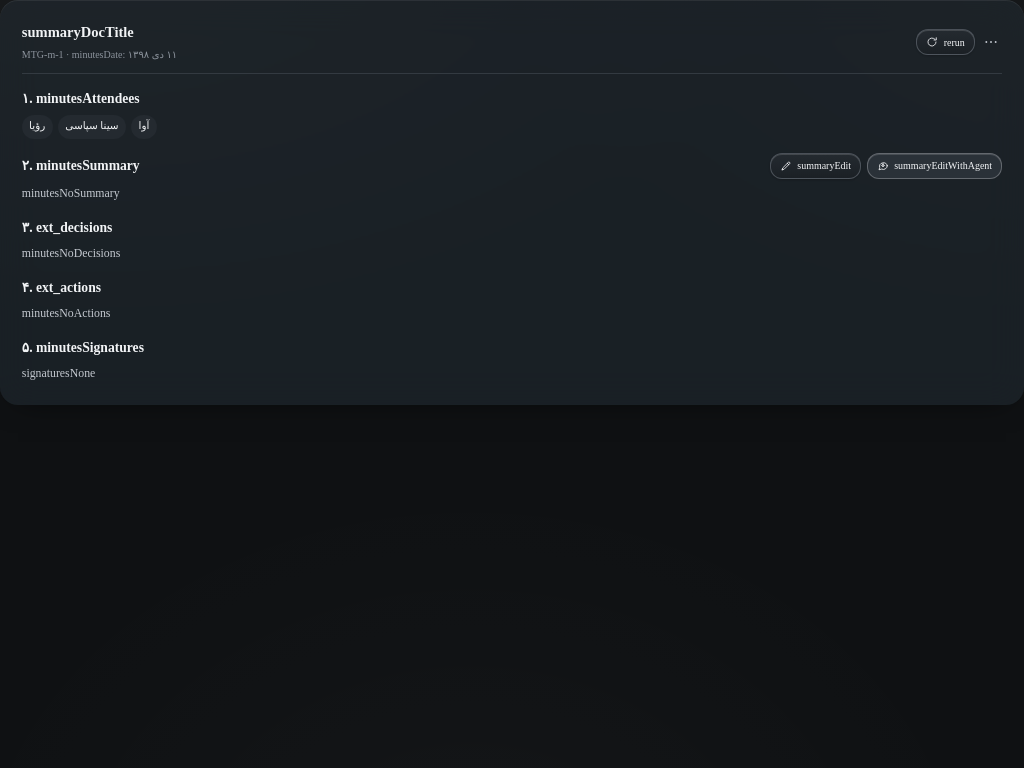
the letterhead, and the assistant's draft (2026-09-17) › puts the assistant's draft in the EDITOR, never straight into the file
The width and height of the screenshot is (1024, 768).
Expected: the text "رؤیا" is shown, [22, 115, 52, 139]
Click the button named "summaryExport" at (991, 42), box [980, 31, 1002, 53]
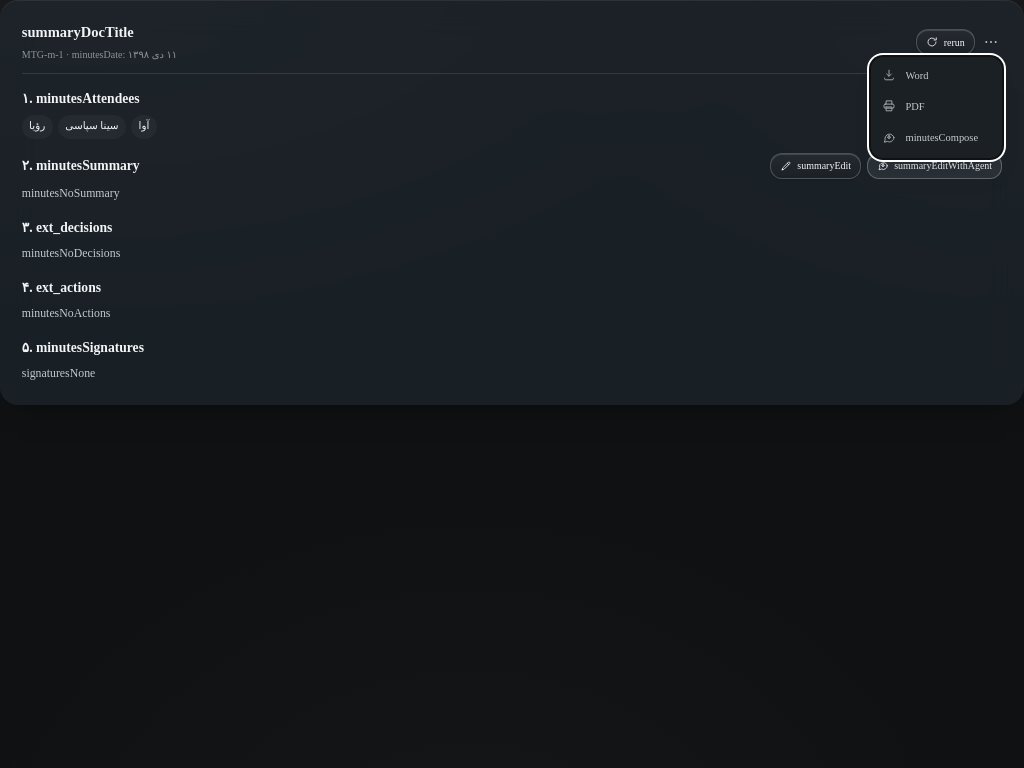
Click the menu item "minutesCompose" at (930, 138), box [882, 131, 978, 145]
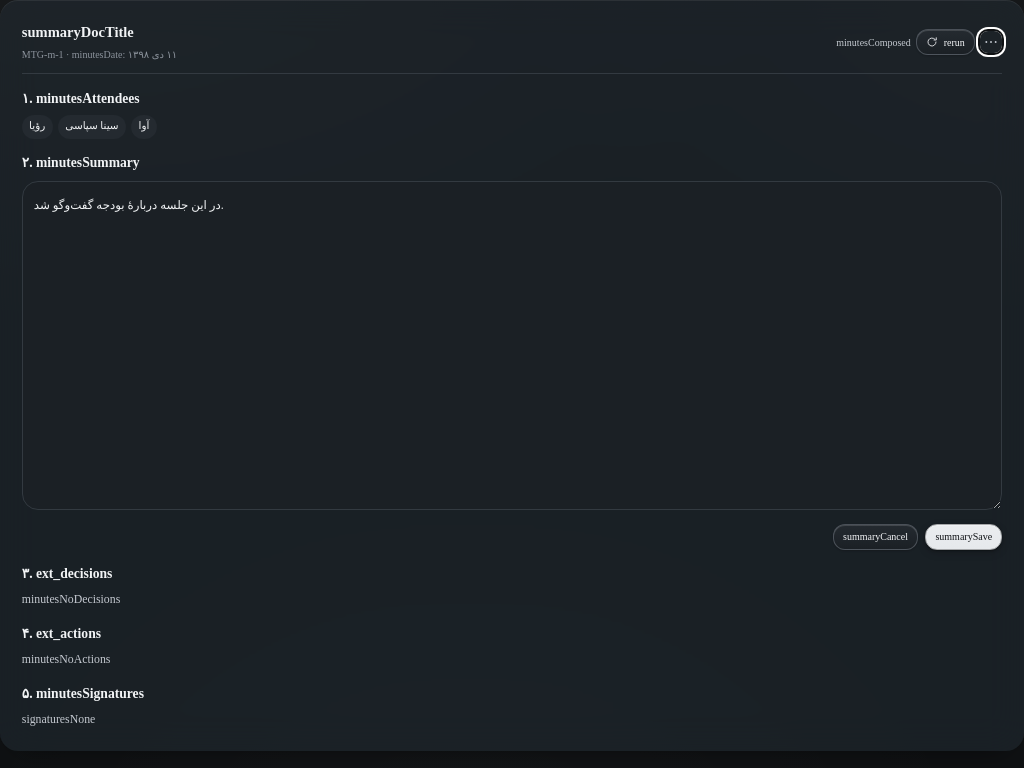
Expected: the text "minutesComposed" is shown, [836, 34, 911, 50]
